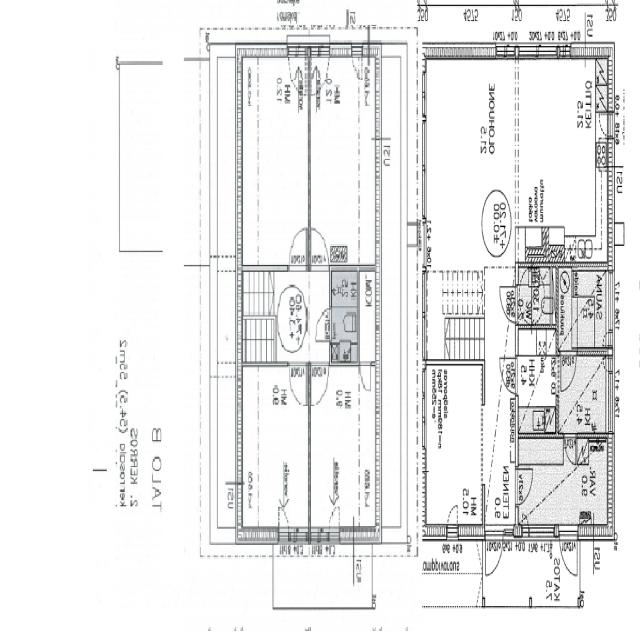door: (393, 272, 426, 333), (559, 525, 578, 584), (486, 526, 504, 582), (290, 363, 308, 411), (312, 363, 330, 409), (312, 225, 329, 272), (289, 226, 306, 271), (515, 469, 534, 505), (499, 358, 518, 394), (499, 286, 518, 322), (562, 350, 578, 392), (314, 307, 332, 342), (564, 432, 576, 467), (360, 363, 371, 394)
